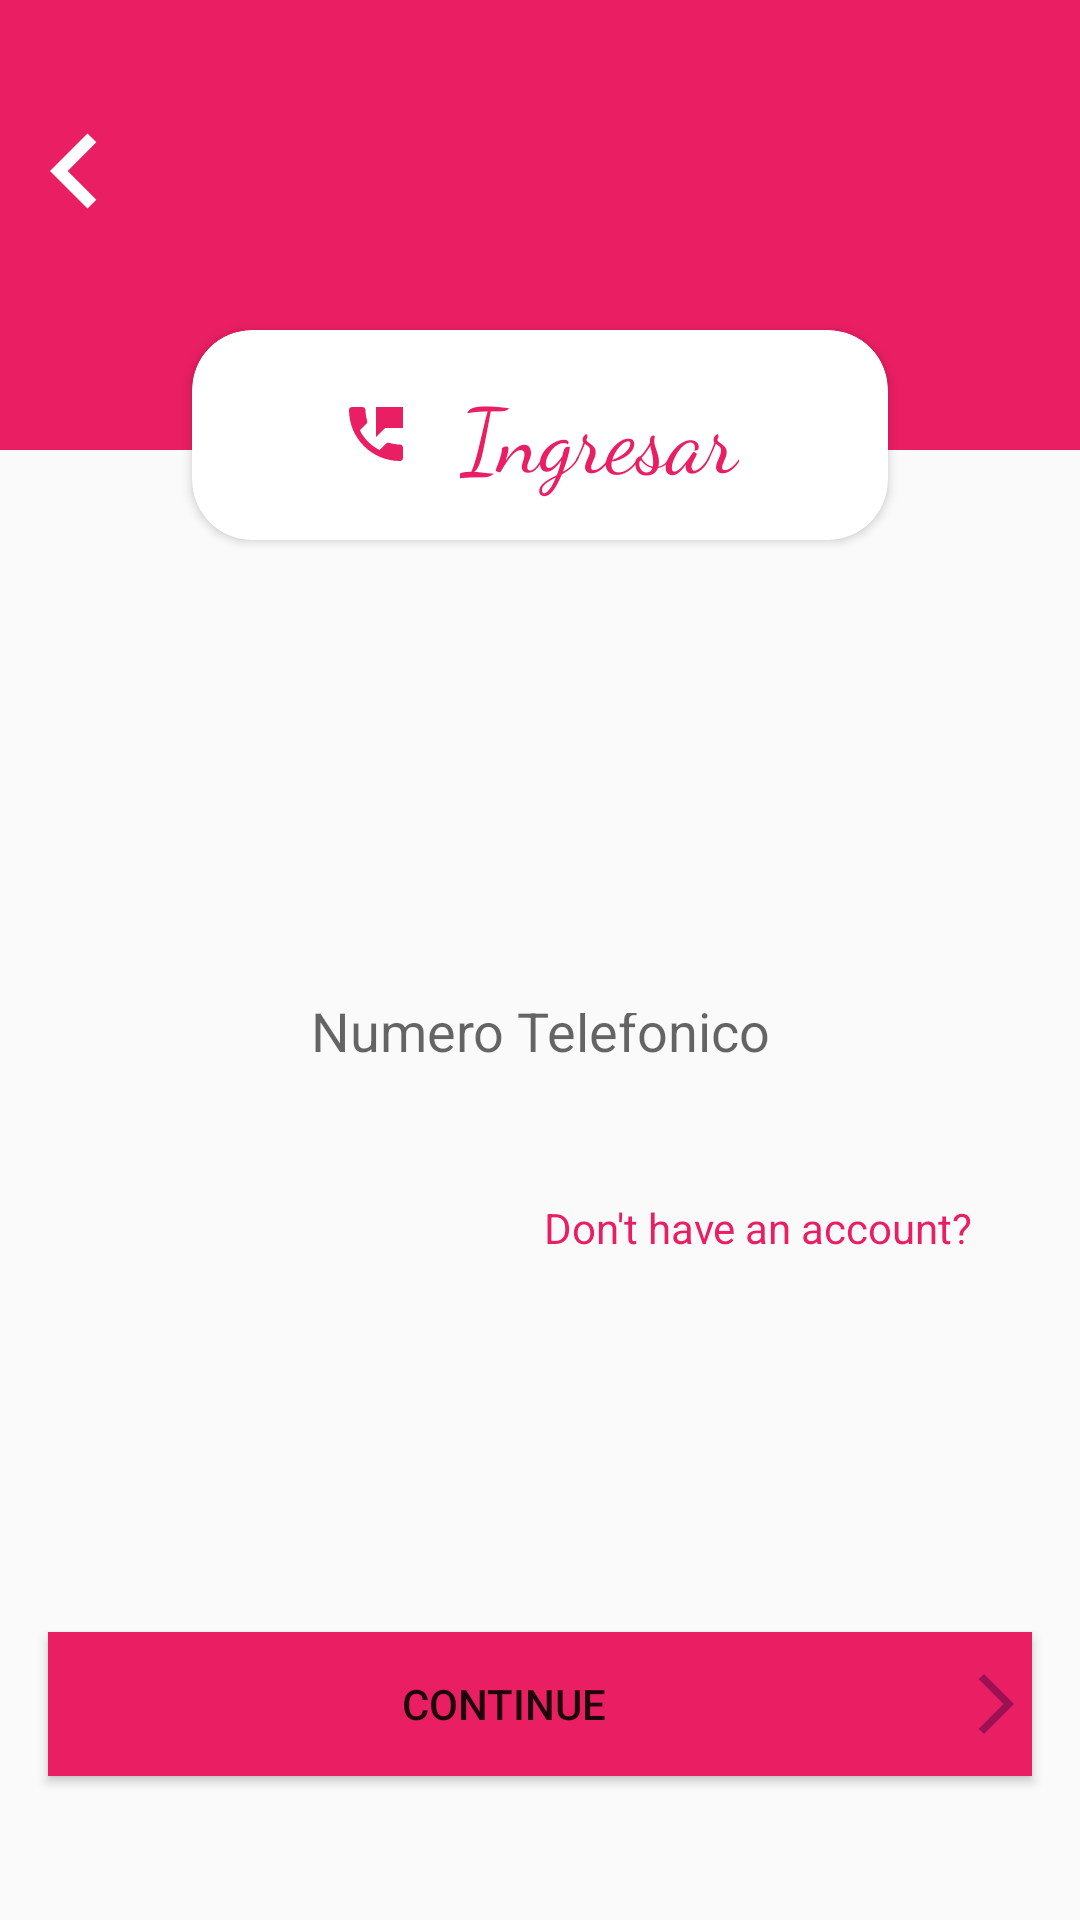

Icon click points for this 1080×1920 phone screenshot, format (x,y):
back: (73,171)
